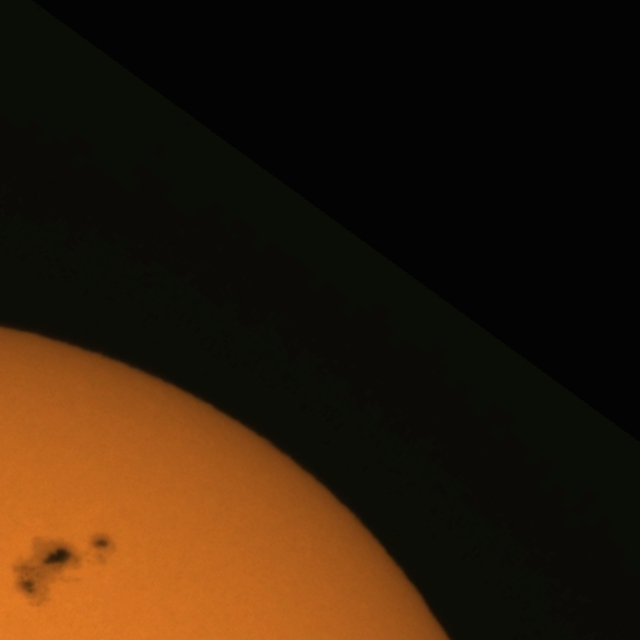sunspot: (10, 530, 117, 603)
